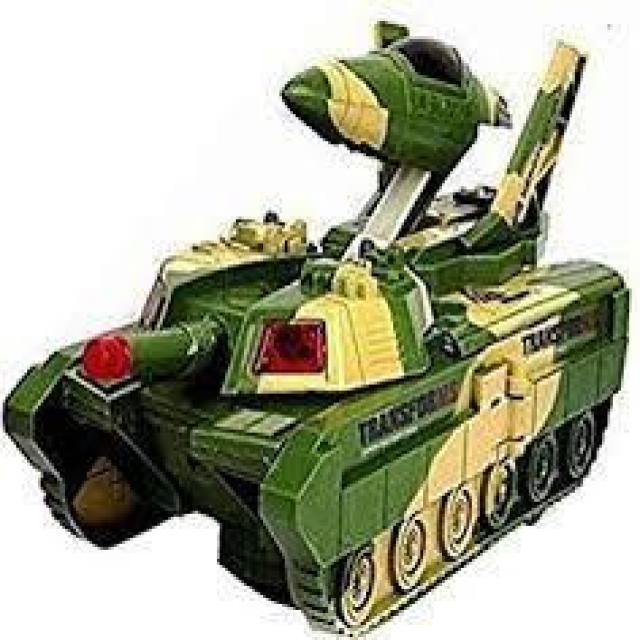Tanks: (4, 164, 631, 635)
